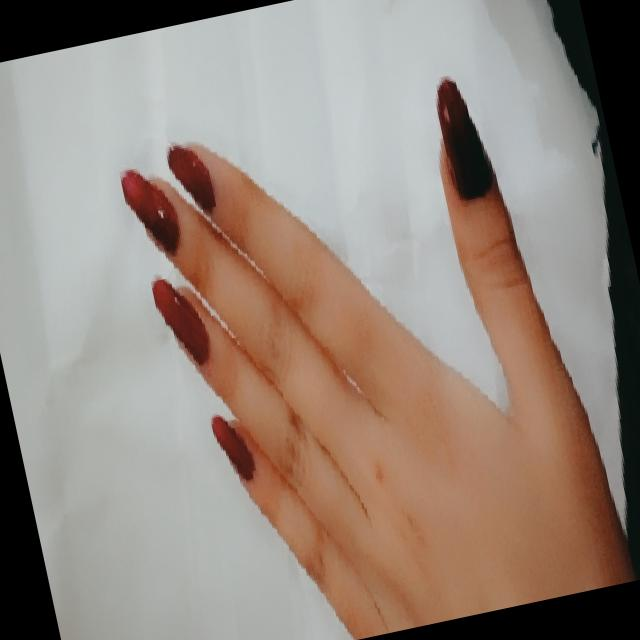Nail: (436, 78, 494, 199), (152, 278, 209, 364), (121, 169, 179, 252), (167, 144, 215, 212), (211, 415, 255, 483)
